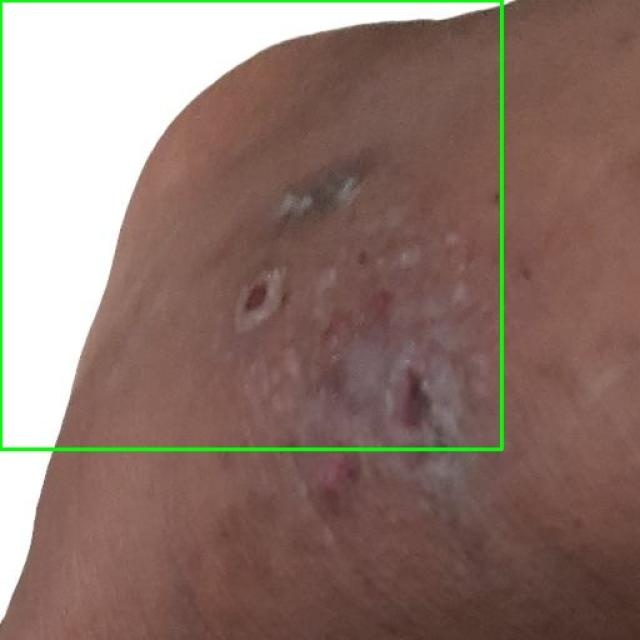Eczema: (0, 0, 501, 449)
